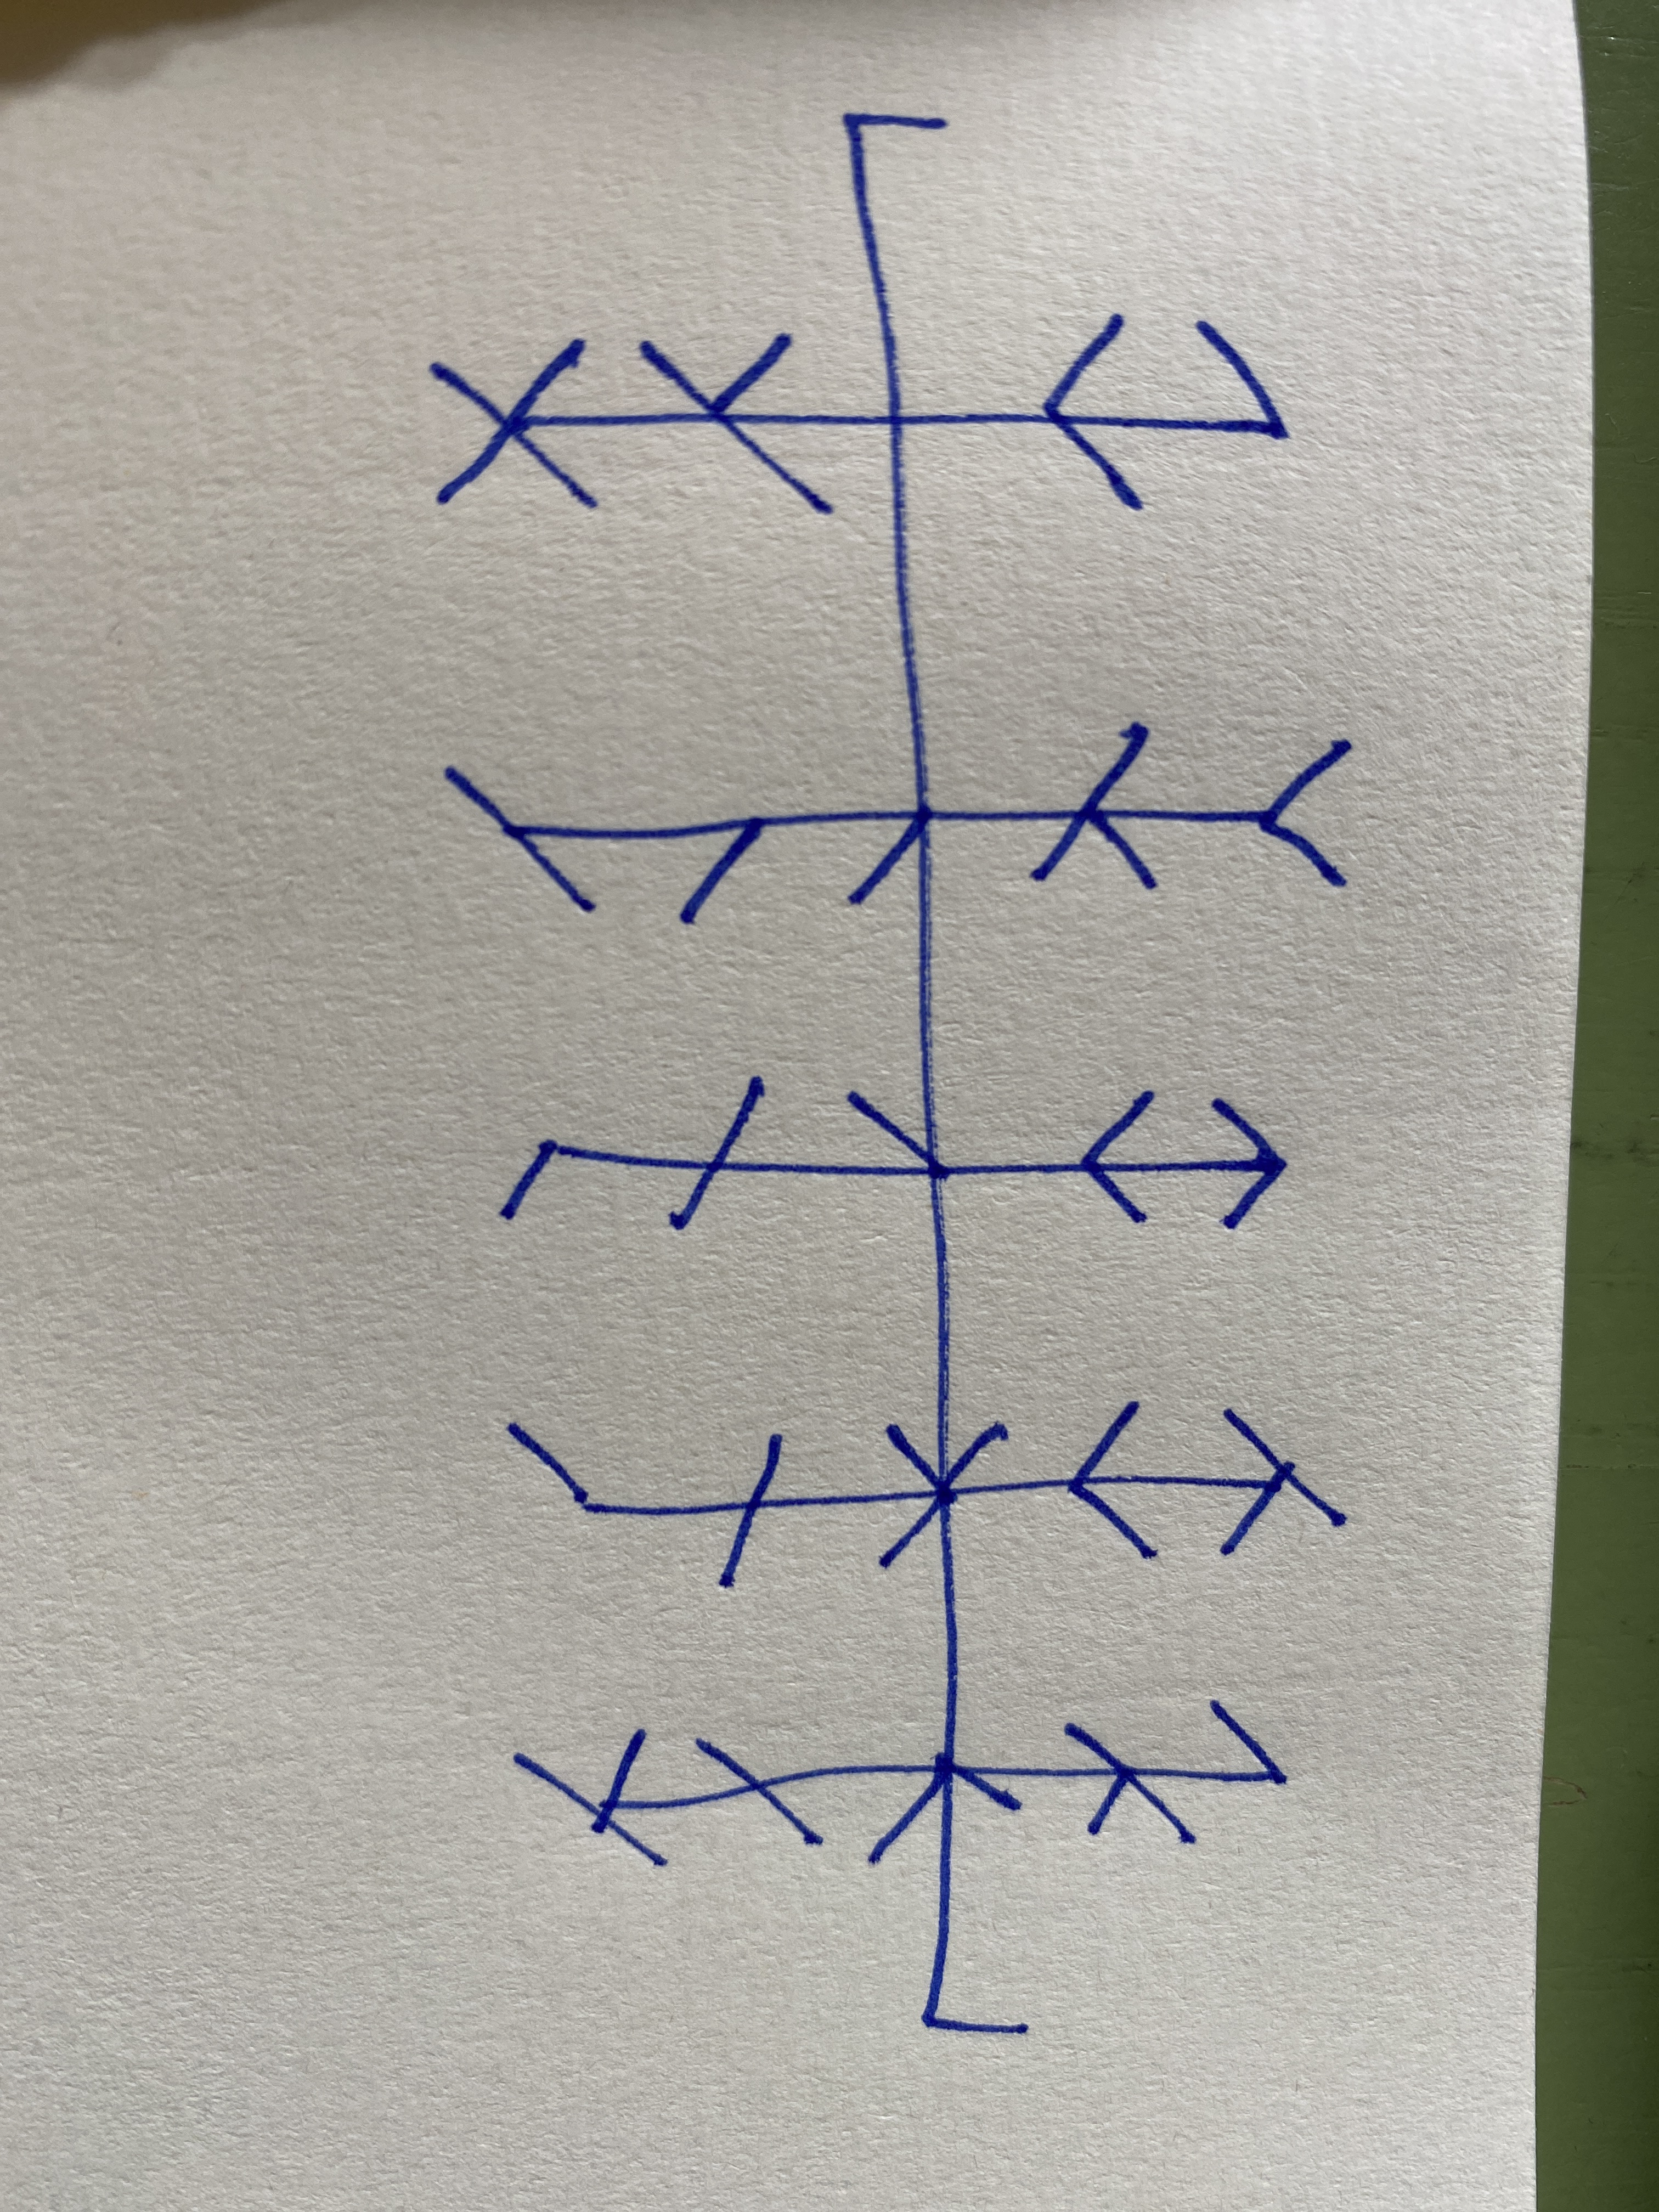Bar: (444, 721, 1352, 925), (429, 314, 1290, 512), (505, 1400, 1349, 1590), (511, 1696, 1291, 1867), (495, 1076, 1286, 1226)
Barcode: (429, 110, 1354, 2038)
End: (915, 1820, 1028, 2038)
Start: (840, 115, 948, 413)
